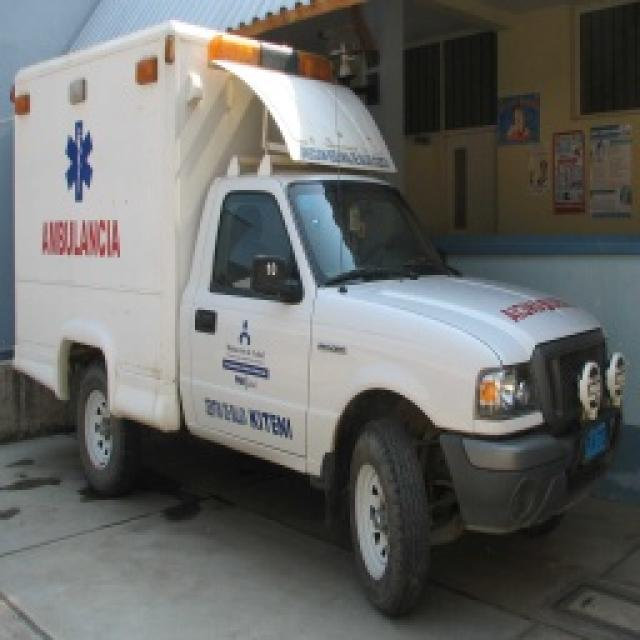ambulance: (0, 20, 638, 618)
